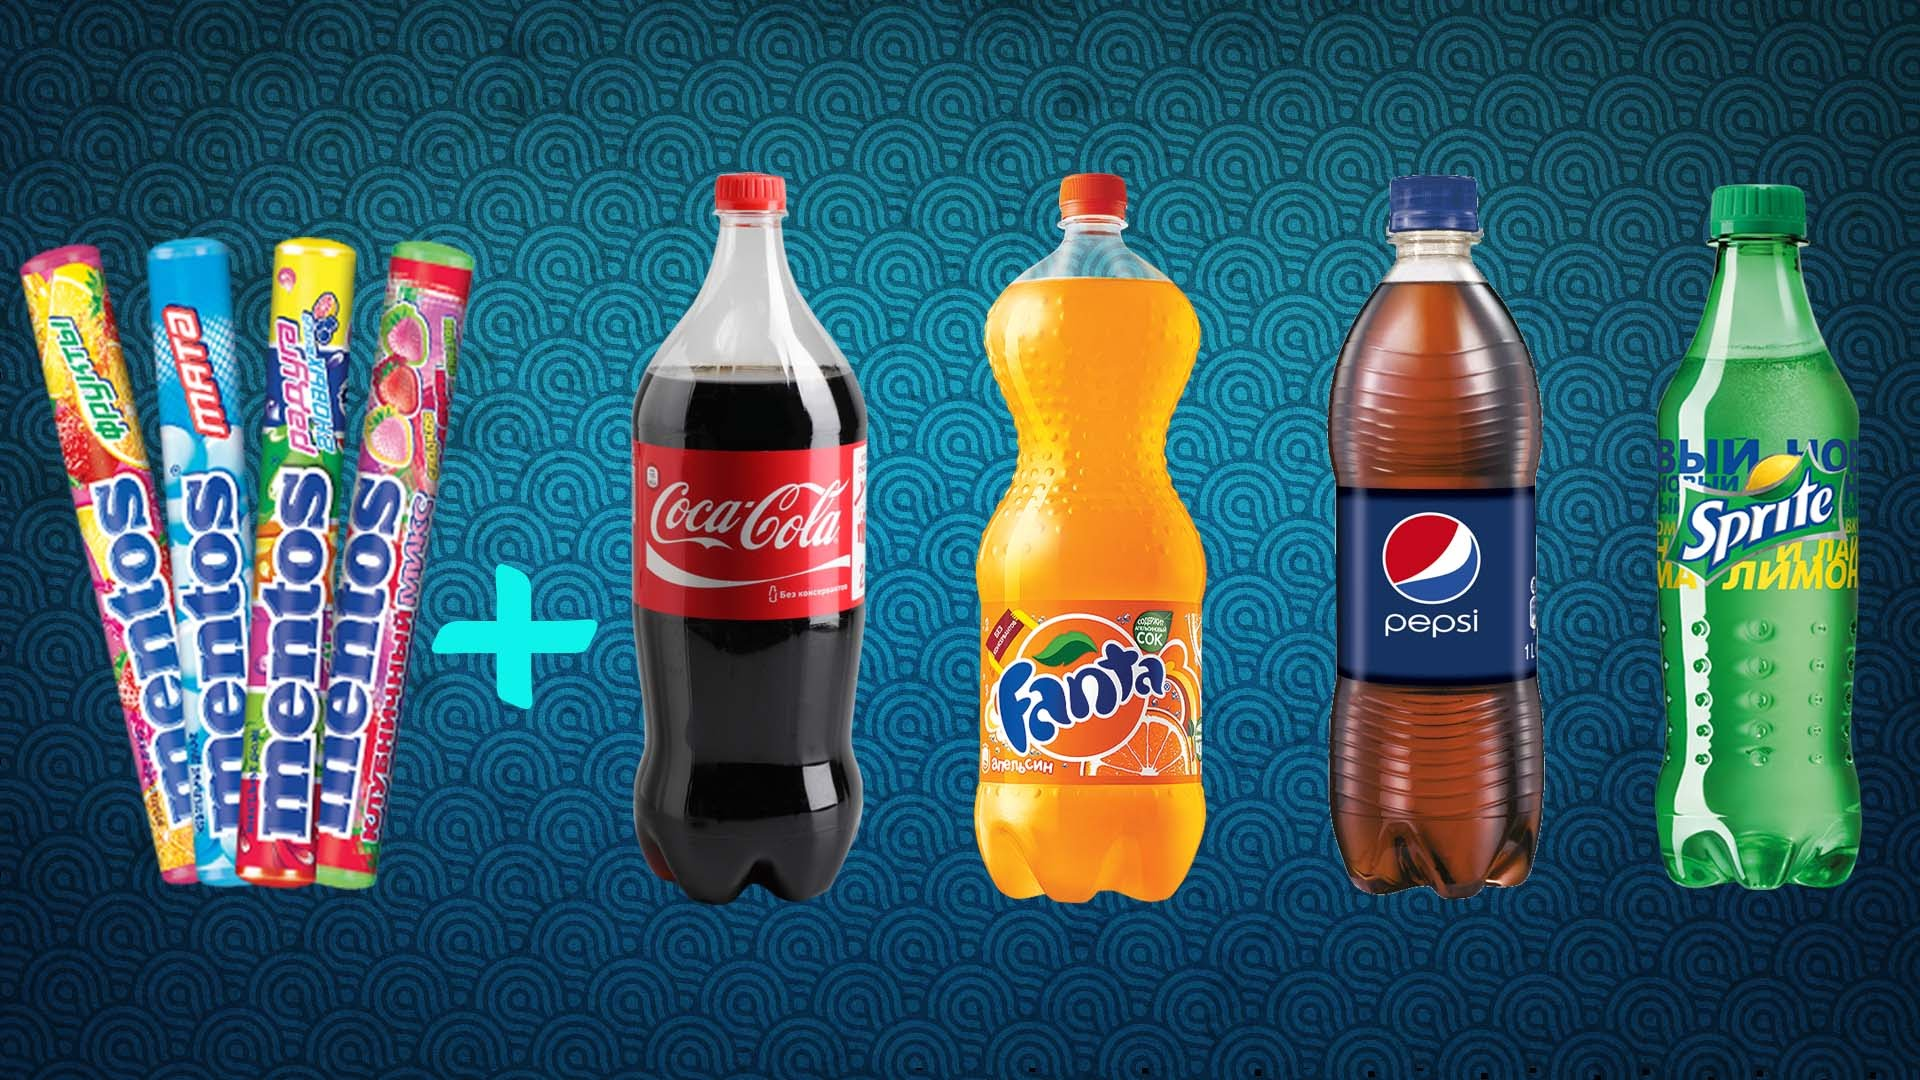fanta: (986, 189, 1212, 911)
